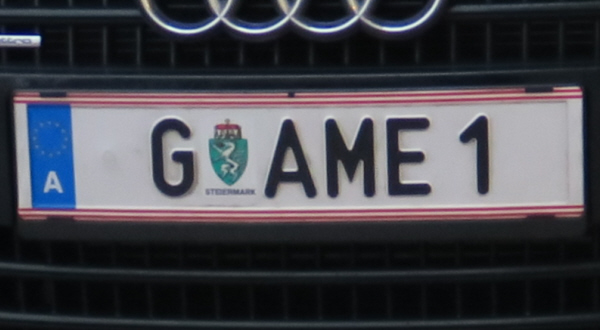license_plate: (10, 85, 587, 220)
